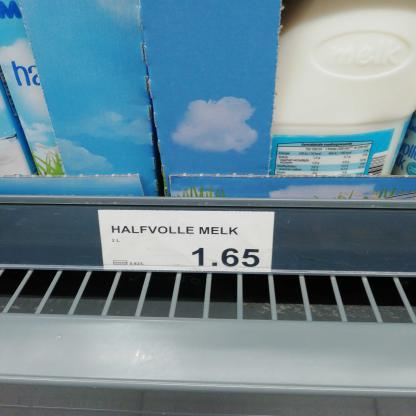prtg: (98, 211, 276, 274)
